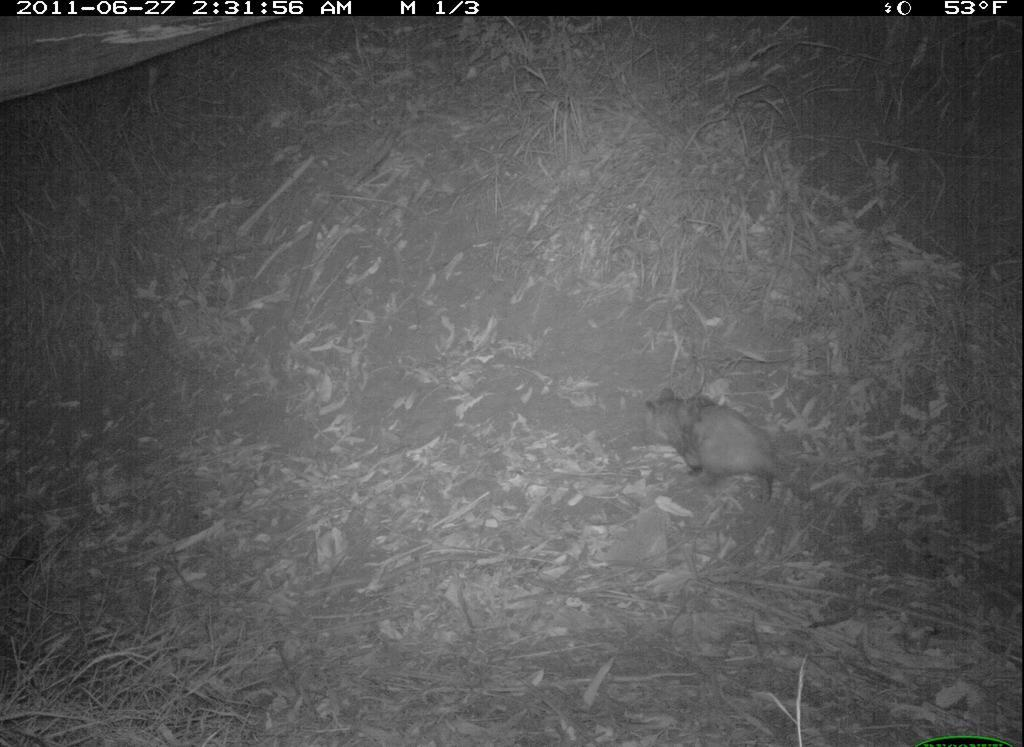opossum: (632, 370, 838, 533)
